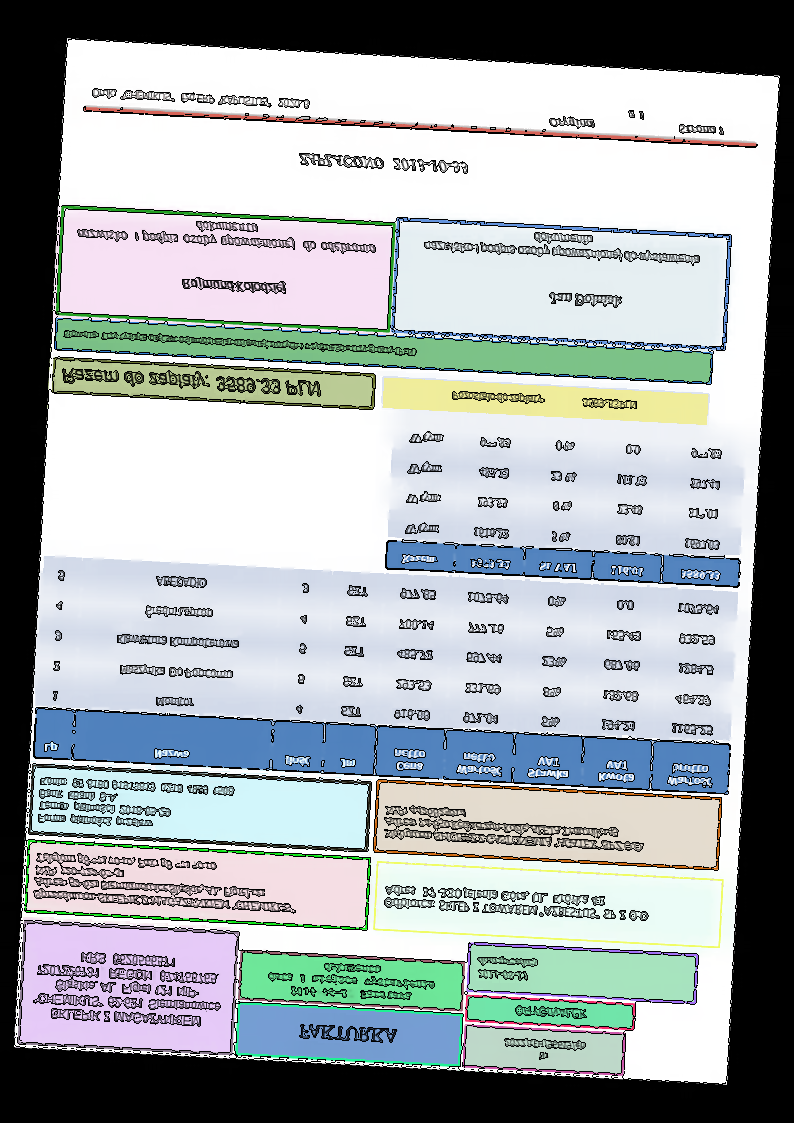Table: (32, 554, 740, 796), (384, 417, 748, 590)
TextBox: (29, 849, 302, 916), (30, 947, 226, 1030), (381, 802, 648, 855), (75, 213, 378, 256), (422, 224, 701, 269), (34, 775, 235, 835), (60, 327, 418, 359), (381, 882, 653, 924), (58, 365, 324, 401), (265, 957, 438, 1005), (547, 105, 727, 138), (90, 86, 310, 112), (298, 150, 469, 176), (450, 389, 637, 412), (294, 1021, 400, 1046), (502, 1034, 587, 1064), (179, 275, 287, 297), (474, 954, 539, 984), (546, 289, 626, 311), (512, 1003, 589, 1023)
